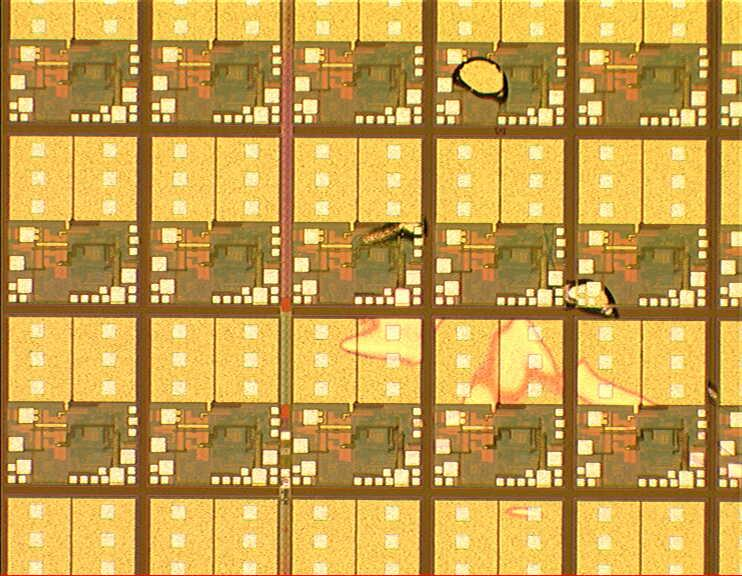COATING BAD: (338, 55, 674, 452)
